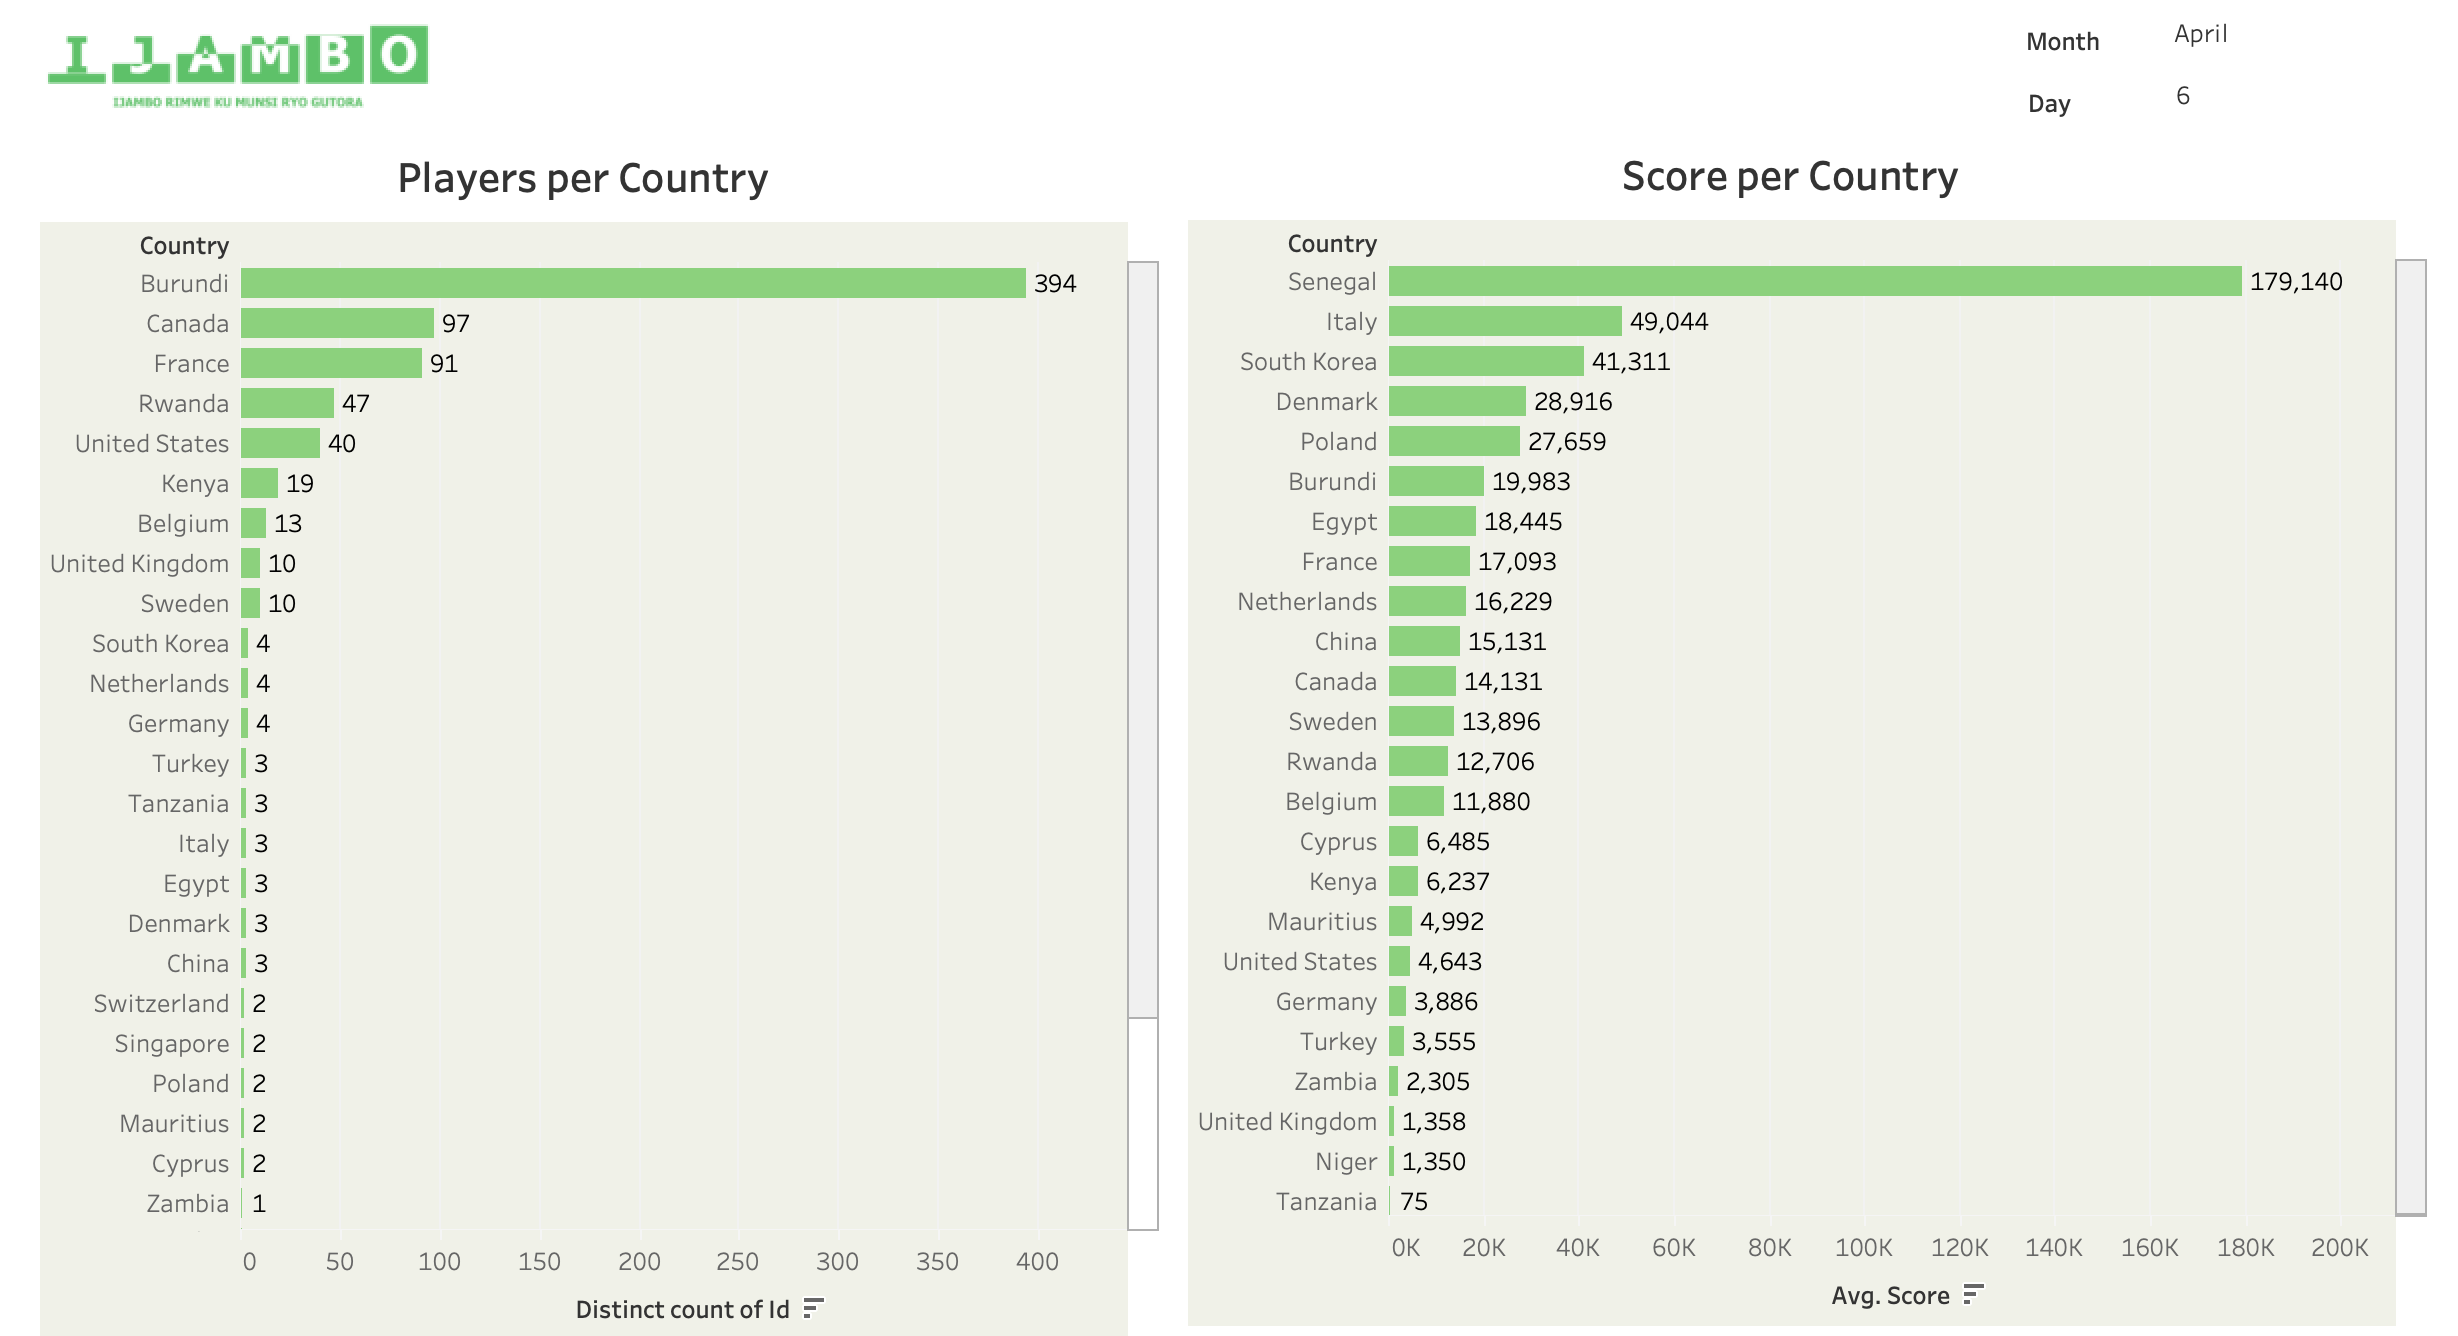

This screenshot's page, from the dashboard's own definition file:
{"tool":"tableau","page":{"name":"Dashboard","canvas":[1229,668],"ordinal":0},"visuals":[{"type":"image","param":"/Users/niyubahweany-arlene/git/ijambo-data/Report/Screenshot 2022-04-04 at 21.40","box":[9.8,5,314.6,52.6]},{"type":"filter","title":"Score per Country","param":"[federated.002u4vo17d50311dut3xm01orgol].[mn:start_date:ok]","box":[1013.4,8,195.8,24]},{"type":"filter","title":"Score per Country","param":"[federated.002u4vo17d50311dut3xm01orgol].[dy:start_date:ok]","box":[1014.4,39.1,194.8,25]},{"type":"worksheet","title":"Score per Country","mark":"Automatic","rows":["country"],"cols":["score"],"box":[593.7,67.1,619.7,595.9]},{"type":"worksheet","title":"Players per Country","mark":"Automatic","rows":["country"],"cols":["id"],"box":[20,68.1,560,601.9]}]}

Visuals, with their boxes in screenshot pixels (x1, y1, x2, y2), scaled from the page's 1229x668 canvas onto the 2458x1336 screenshot:
image: [20,10,649,115]
"Score per Country" filter: [2027,16,2418,64]
"Score per Country" filter: [2029,78,2418,128]
"Score per Country" worksheet: [1187,134,2427,1326]
"Players per Country" worksheet: [40,136,1160,1335]
